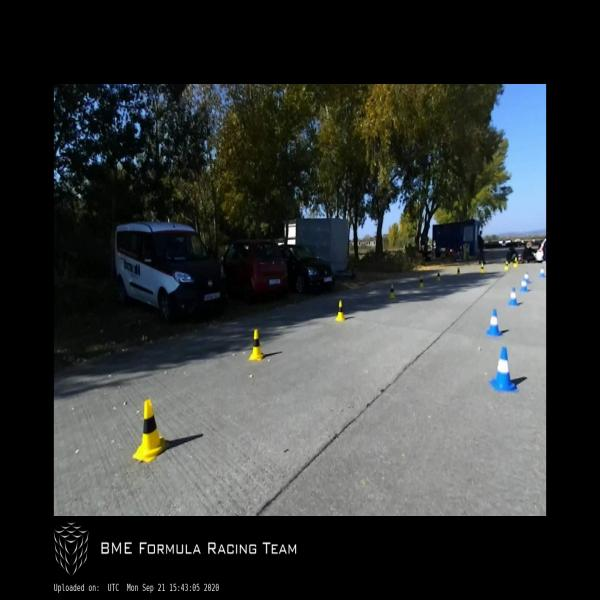blue_cone: (488, 345, 519, 392), (485, 307, 503, 337), (507, 286, 520, 306), (520, 277, 528, 293), (538, 264, 546, 279), (524, 271, 529, 283)
large_orange_cone: (518, 253, 521, 264)
yellow_cone: (132, 398, 170, 464), (248, 327, 264, 362), (334, 300, 346, 322), (388, 284, 397, 300), (418, 275, 425, 289), (456, 265, 461, 277), (513, 258, 518, 268), (480, 262, 484, 274), (436, 272, 440, 282), (504, 260, 508, 270)
